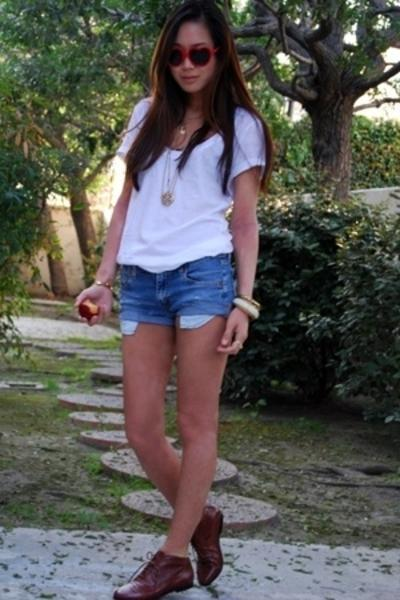shirt: (116, 96, 265, 272)
shoe: (113, 506, 223, 599)
shorts: (108, 252, 243, 338)
sunglass: (180, 45, 210, 66)
